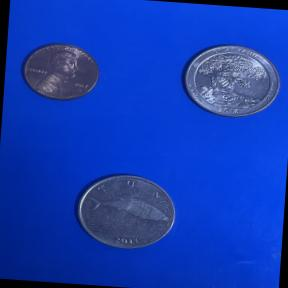coin: (169, 33, 288, 131), (64, 166, 186, 260), (11, 35, 110, 110)
